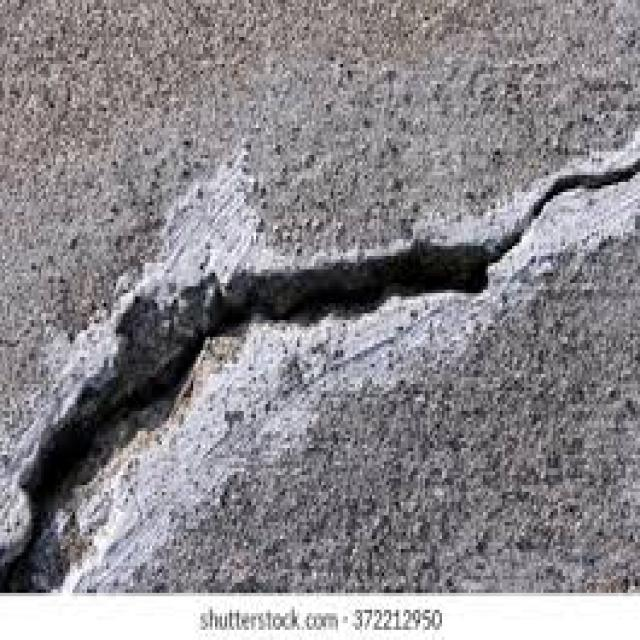Crack: (0, 148, 638, 590)
